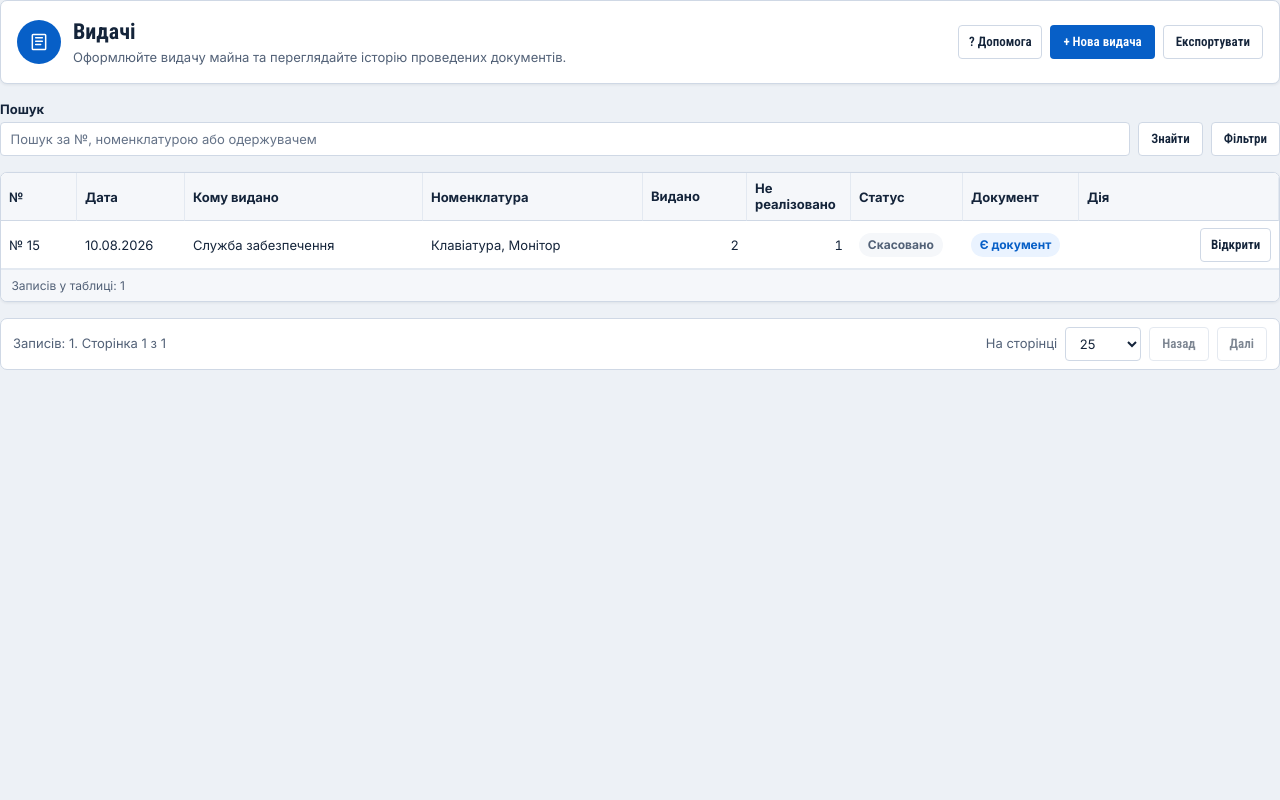
Test: MVO issues workspace › opens read-only details and keeps a cancelled issue in history
expect the text "Скасовано" is shown: met, box top-left (859, 233), bottom-right (943, 257)
What coordinates should you click on to do the following:
click the button "Відкрити"
I would click on:
 (1236, 245)
Its box is top-left (1200, 228), bottom-right (1271, 262).
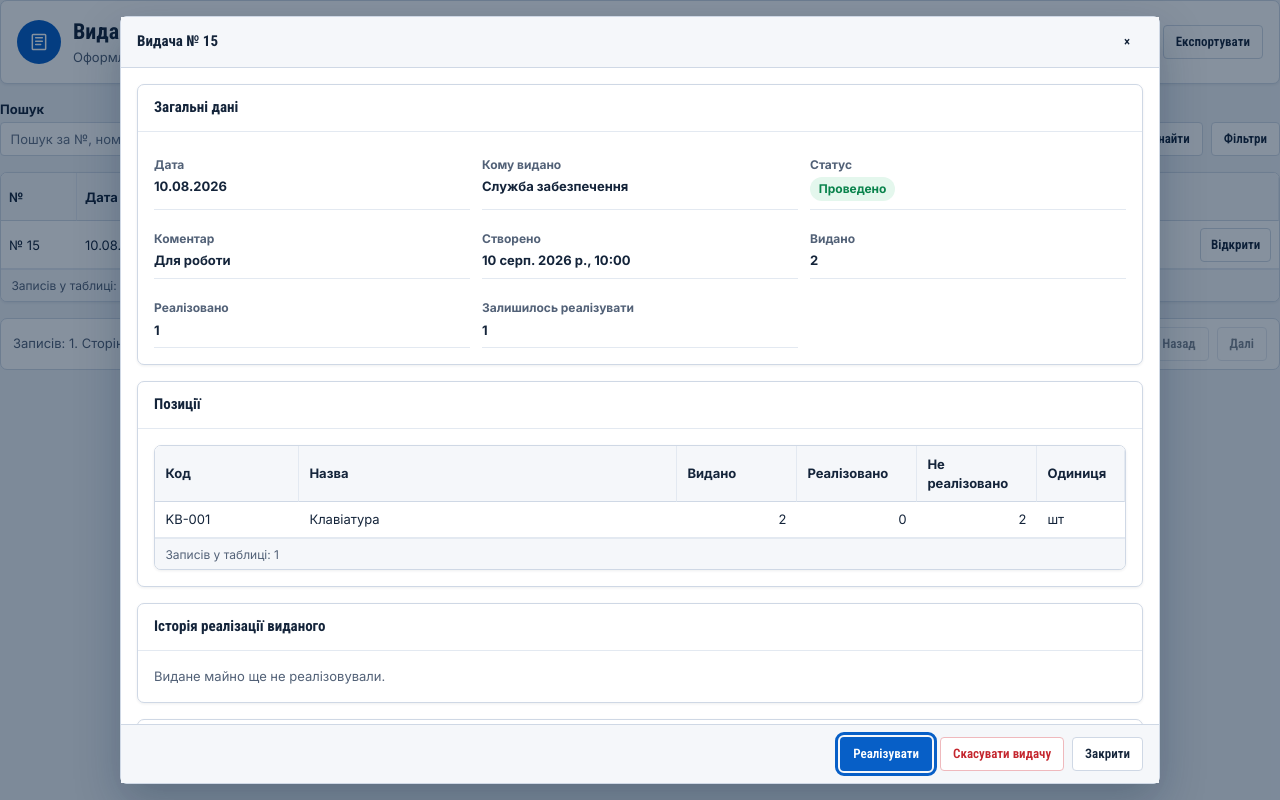
expect the heading "Видача № 15" is shown: met, box top-left (137, 31), bottom-right (218, 53)
expect the text "Позиції" is shown: met, box top-left (138, 382), bottom-right (1142, 429)
expect the column heading "Не реалізовано" is shown: met, box top-left (917, 446), bottom-right (1037, 502)
